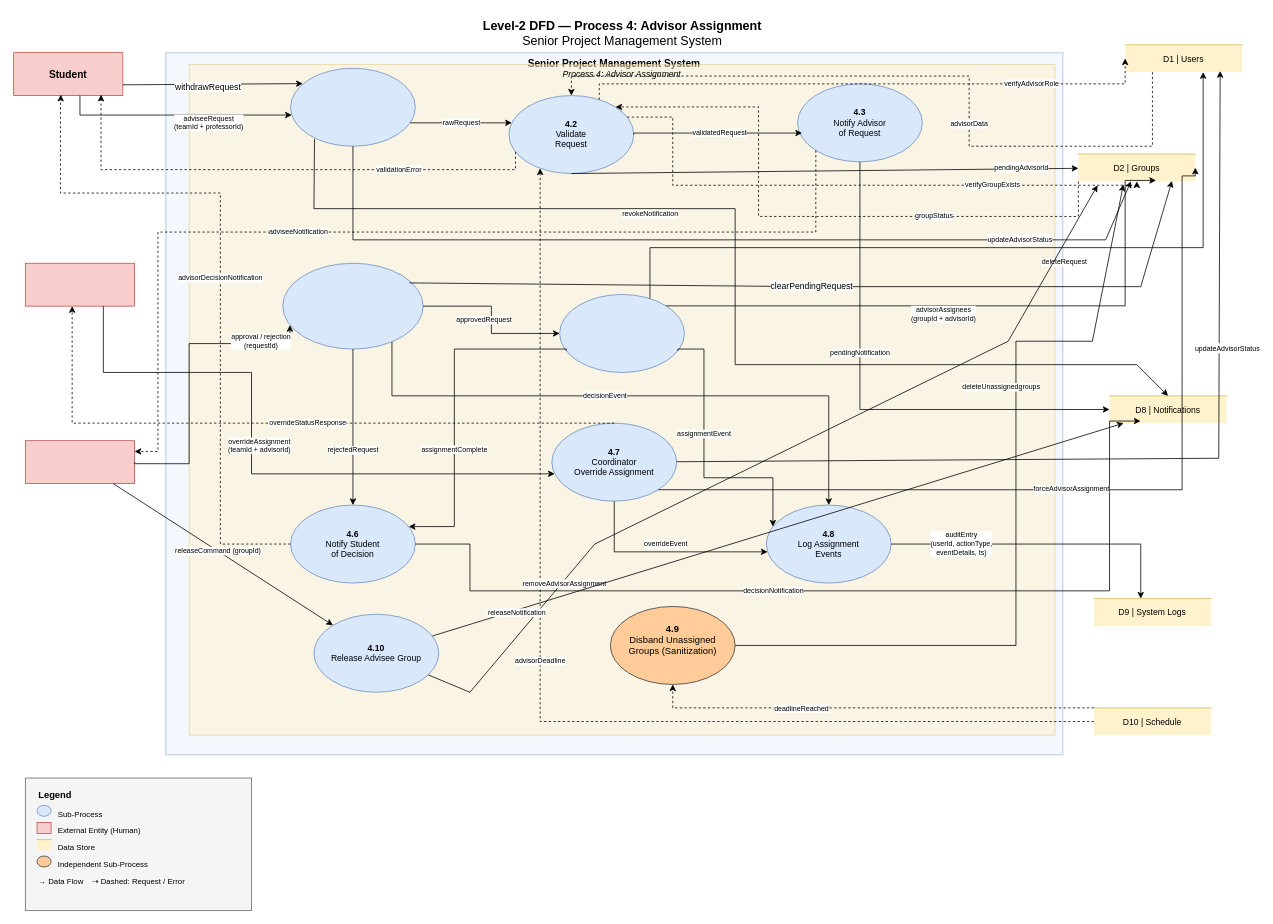
Some shapes in this 1273 by 924 pixel diagram are drawn without their labels. The shapes that lost their labels are listed below. From the top down, each one's box as (x1, y1, x2, y2) in pixels, then its label:
(290, 67, 415, 146): 4.1 Submit Advisor Request
(25, 262, 135, 306): Coordinator
(282, 262, 423, 349): 4.4 Process Advisor Decision (approve / reject)
(559, 294, 684, 372): 4.5 Assign Advisor to Group
(25, 440, 135, 484): Professor / Advisor
